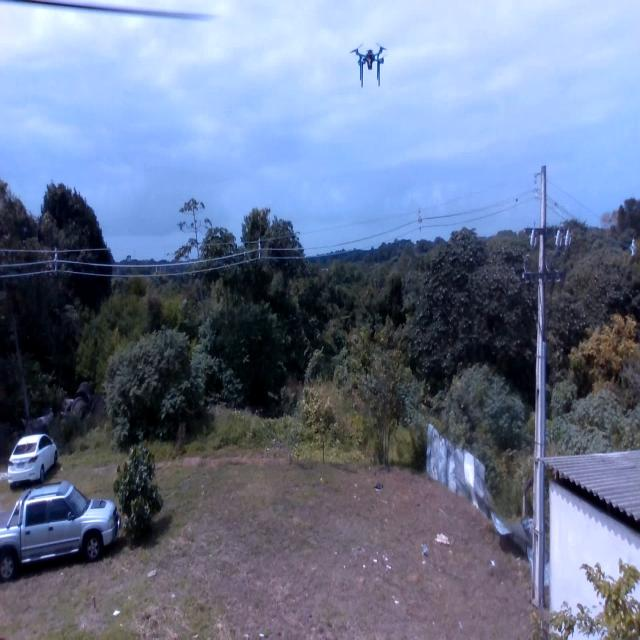-uav-: (341, 37, 404, 98)
